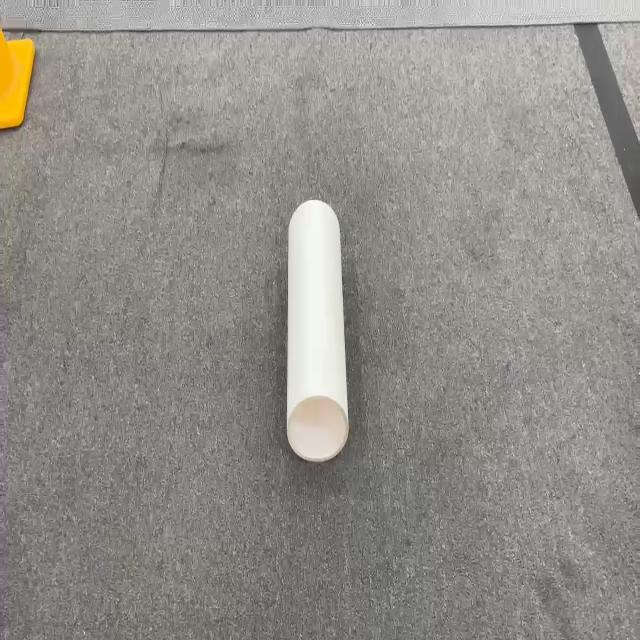coral: (285, 198, 349, 462)
